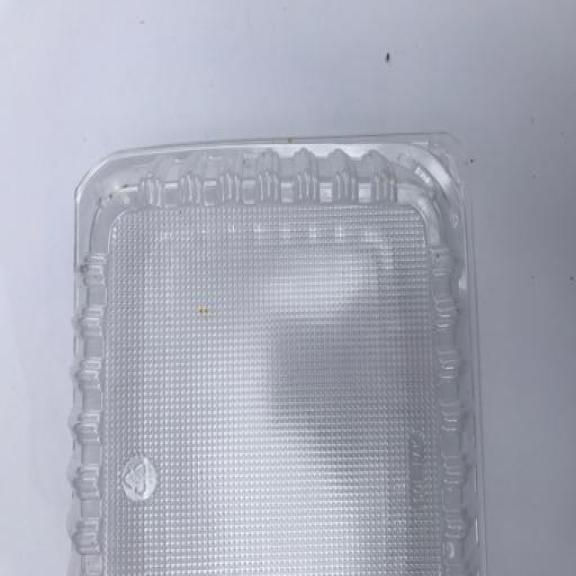Plastik: (66, 128, 490, 576)
